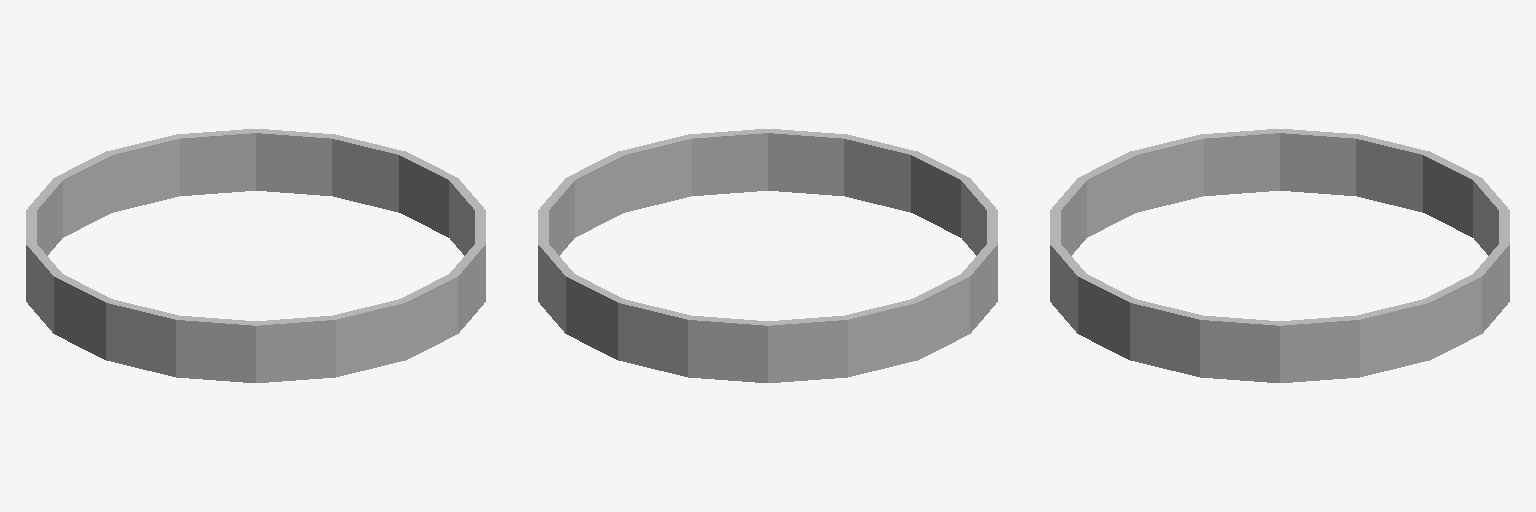
File: Fan Cowling.obj
The picture shows the model from 3 angles: view 1: azimuth 30°, elevation 25°; view 2: azimuth 150°, elevation 25°; view 3: azimuth 270°, elevation 25°; orthographic projection.
Visible parts, largest first — view 1: Fan cowling; view 2: Fan cowling; view 3: Fan cowling.
Boxes of the visible parts, <box> form: Fan cowling: <box>26,129,485,382</box>; Fan cowling: <box>538,129,997,382</box>; Fan cowling: <box>1050,129,1509,382</box>.
Bounding box in the file's own units: 11 × 1.5 × 10.83.